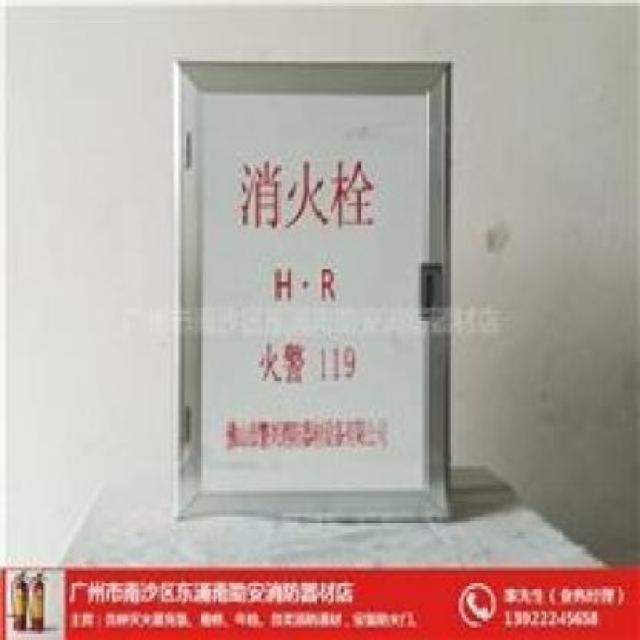firehydrant: (171, 51, 458, 528)
